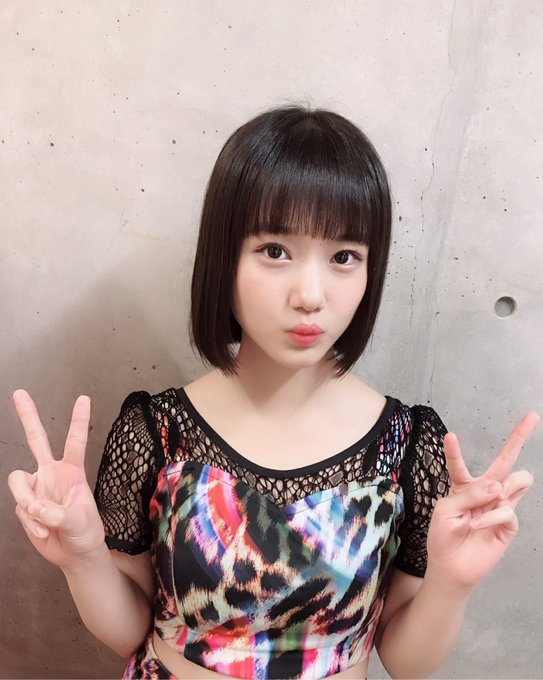face: (234, 191, 368, 372)
hand: (424, 409, 540, 584), (9, 389, 106, 563)
